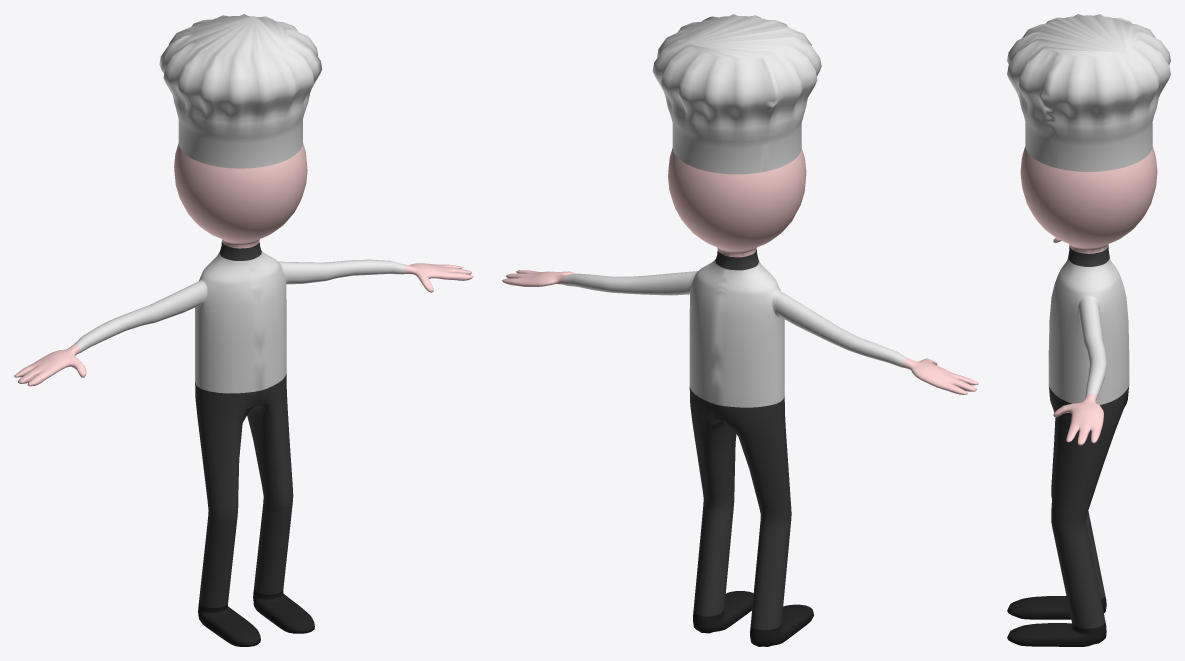
The model's file is Stickman.fbx.
The picture shows the model from 3 angles, left to right: view 1: azimuth 30°, elevation 25°; view 2: azimuth 150°, elevation 25°; view 3: azimuth 270°, elevation 25°; orthographic projection. The views are drawn at different scales.
Visible parts, largest first — view 1: Sphere.002; view 2: Sphere.002; view 3: Sphere.002.
Part boxes in pixels (box(x1,y1,x2,y2)): Sphere.002: box(14, 14, 473, 646); Sphere.002: box(502, 14, 978, 646); Sphere.002: box(1007, 14, 1170, 646).
Size of the model in its own units: 259 by 315 by 79.08.
